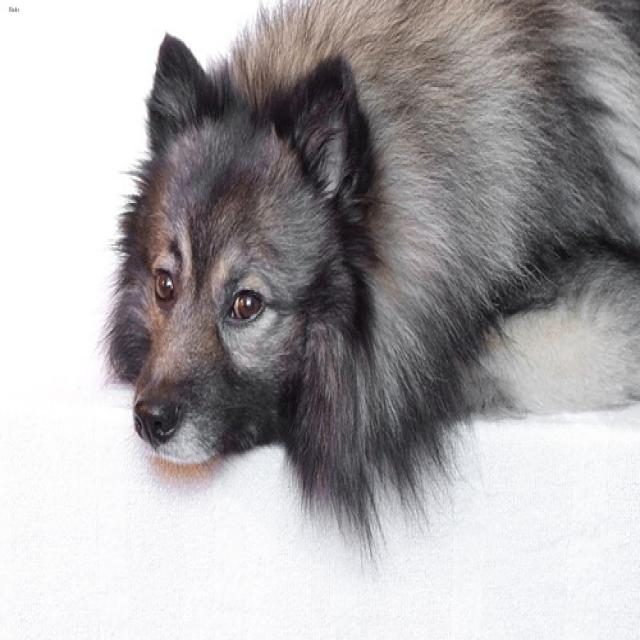dog-keeshond: (95, 2, 637, 579)
